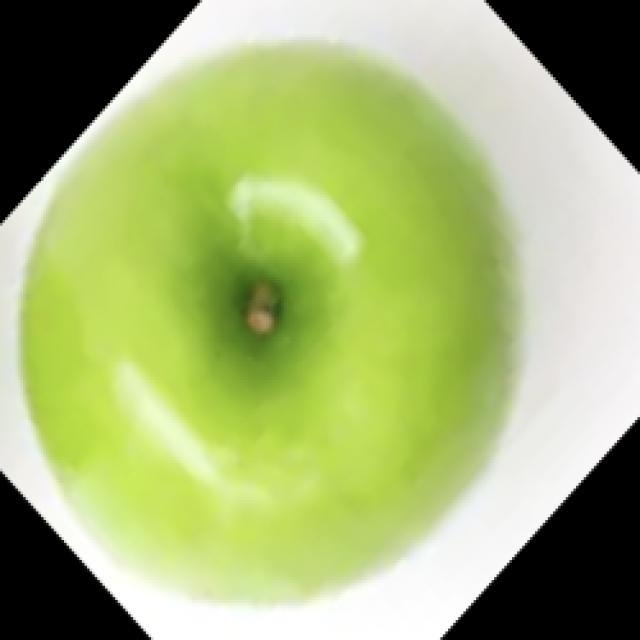Apple: (18, 36, 525, 606)
